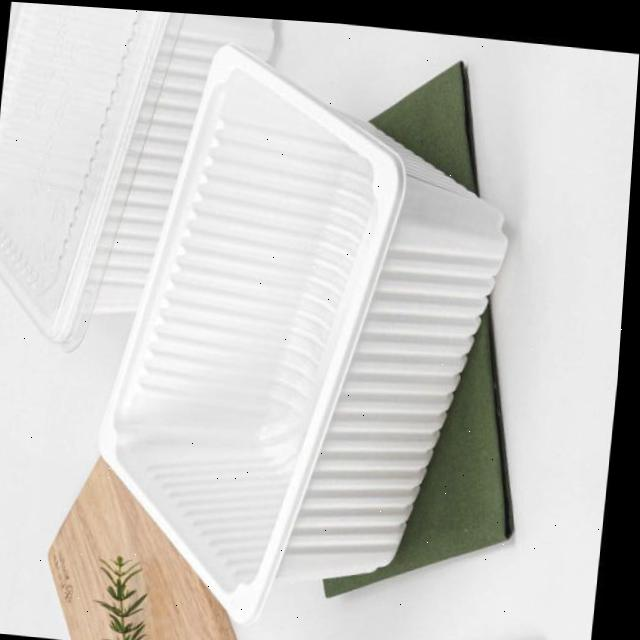disposable: (73, 5, 542, 622)
